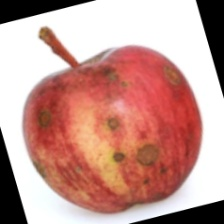apple: (51, 21, 191, 198)
